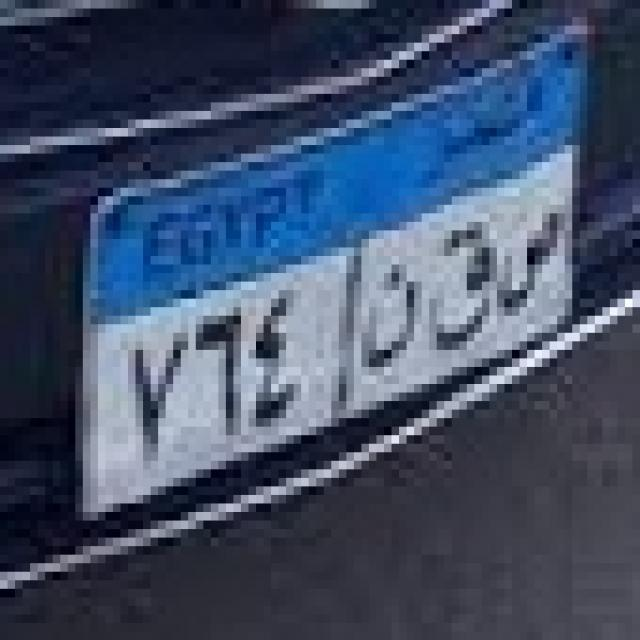4: (252, 284, 305, 426)
6: (195, 305, 248, 437)
7: (121, 330, 189, 468)
Noon: (361, 258, 422, 384)
Saad: (498, 200, 564, 322)
Taa: (424, 211, 506, 368)
